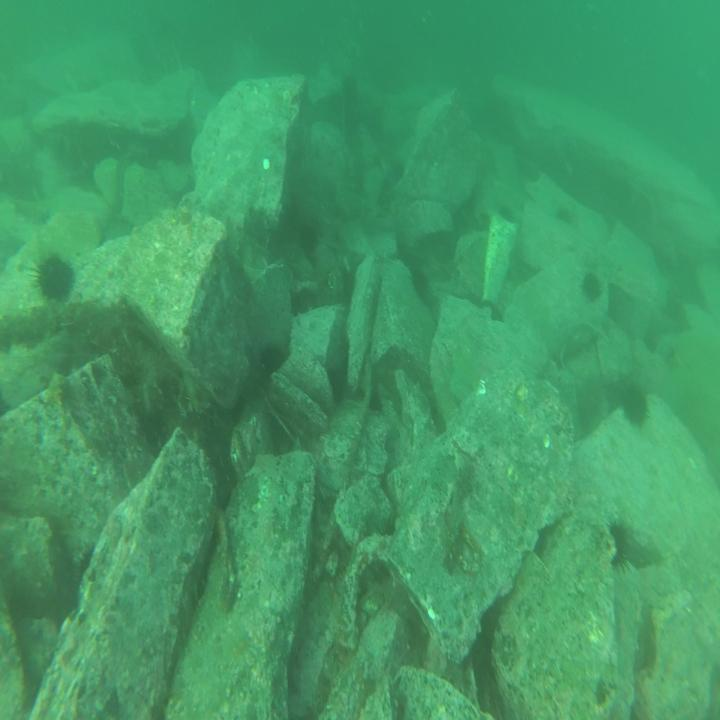echinus: (36, 253, 74, 306), (623, 386, 651, 429), (606, 522, 631, 569), (582, 269, 602, 304)
